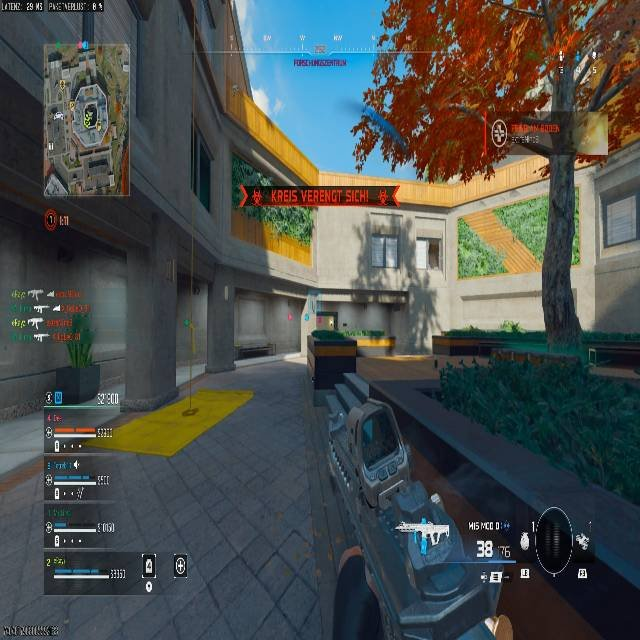player: (349, 113, 386, 173)
